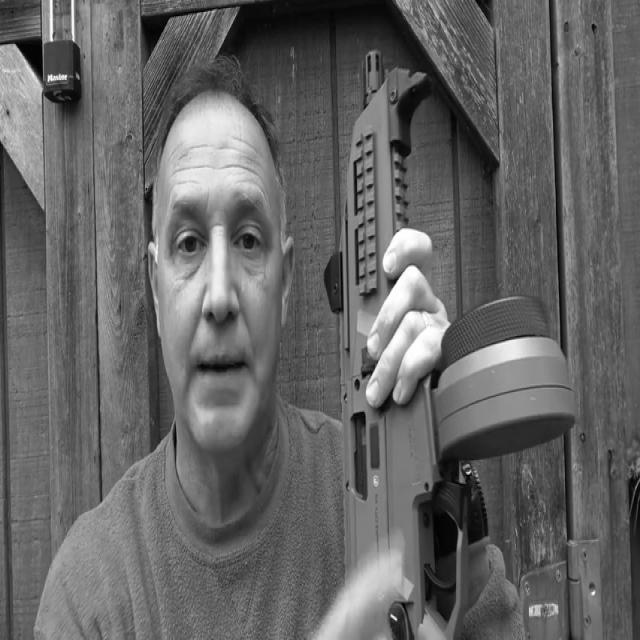Sub-machine-gun: (321, 31, 553, 640)
